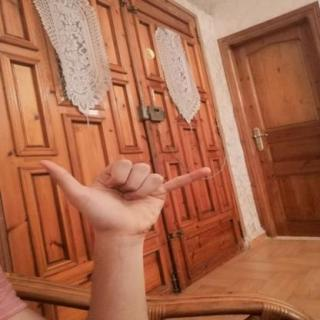YA: (30, 148, 224, 244)
